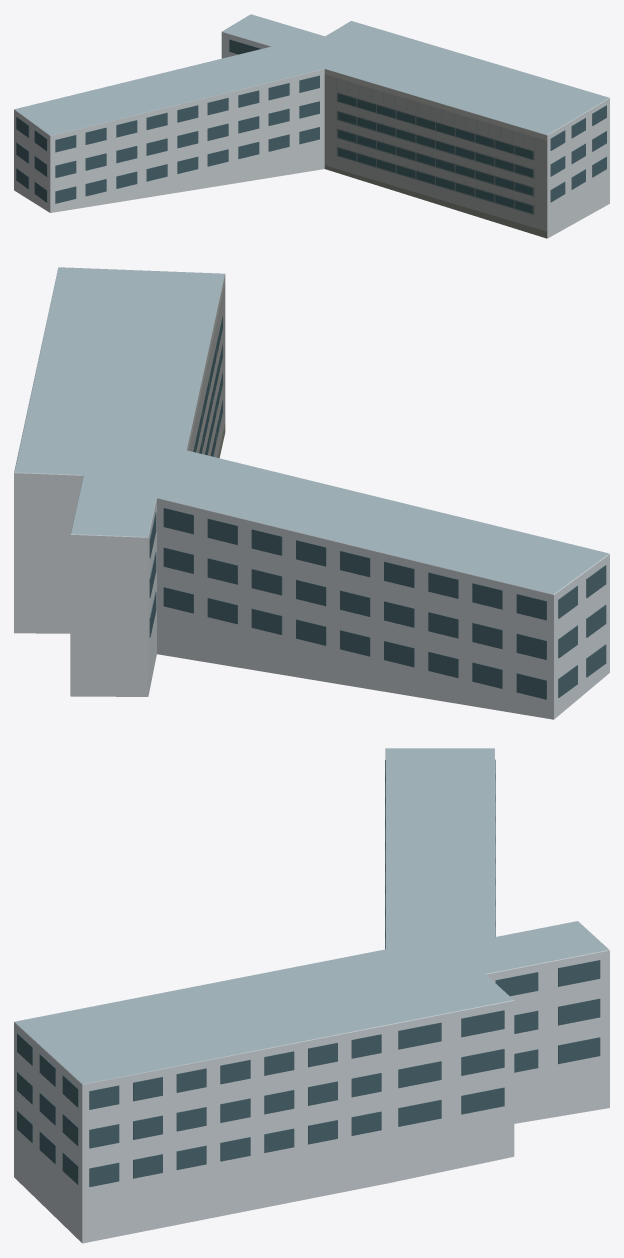
The model's file is fragments.glb.
The picture shows the model from 3 angles, top to bottom: view 1: azimuth 30°, elevation 25°; view 2: azimuth 150°, elevation 25°; view 3: azimuth 270°, elevation 25°; orthographic projection. The views are drawn at different scales.
Visible parts, largest first — view 1: SM_techno_Fragment_035, SM_techno_Fragment_000, SM_techno_Fragment_037, SM_techno_Fragment_012, SM_techno_Fragment_034, SM_techno_Fragment_020, SM_techno_Fragment_008, SM_techno_Fragment_038, SM_techno_Fragment_051, SM_techno_Fragment_016, SM_techno_Fragment_041, SM_techno_Fragment_013 (+29 smaller); view 2: SM_techno_Fragment_012, SM_techno_Fragment_011, SM_techno_Fragment_040, SM_techno_Fragment_003, SM_techno_Fragment_031, SM_techno_Fragment_022, SM_techno_Fragment_049, SM_techno_Fragment_052, SM_techno_Fragment_039, SM_techno_Fragment_038, SM_techno_Fragment_007, SM_techno_Fragment_029 (+23 smaller); view 3: SM_techno_Fragment_019, SM_techno_Fragment_017, SM_techno_Fragment_002, SM_techno_Fragment_048, SM_techno_Fragment_045, SM_techno_Fragment_046, SM_techno_Fragment_025, SM_techno_Fragment_004, SM_techno_Fragment_031, SM_techno_Fragment_028, SM_techno_Fragment_026, SM_techno_Fragment_047 (+24 smaller).
Boxes of the visible parts, box(x1,y1,x2,y2) form: SM_techno_Fragment_035: box(260, 50, 338, 123); SM_techno_Fragment_000: box(83, 104, 167, 175); SM_techno_Fragment_037: box(365, 75, 459, 131); SM_techno_Fragment_012: box(14, 110, 83, 209); SM_techno_Fragment_034: box(160, 85, 233, 154); SM_techno_Fragment_020: box(217, 77, 289, 159); SM_techno_Fragment_008: box(511, 106, 590, 176); SM_techno_Fragment_038: box(14, 103, 106, 159); SM_techno_Fragment_051: box(487, 127, 565, 202); SM_techno_Fragment_016: box(449, 96, 523, 163); SM_techno_Fragment_041: box(317, 79, 380, 152); SM_techno_Fragment_013: box(397, 120, 462, 180); SM_techno_Fragment_012: box(495, 565, 609, 719); SM_techno_Fragment_011: box(292, 511, 385, 627); SM_techno_Fragment_040: box(364, 579, 475, 688); SM_techno_Fragment_003: box(162, 487, 261, 602); SM_techno_Fragment_031: box(70, 493, 166, 591); SM_techno_Fragment_022: box(206, 586, 307, 677); SM_techno_Fragment_049: box(233, 478, 339, 574); SM_techno_Fragment_052: box(412, 547, 516, 649); SM_techno_Fragment_039: box(29, 458, 164, 545); SM_techno_Fragment_038: box(477, 533, 609, 606); SM_techno_Fragment_007: box(70, 556, 139, 667); SM_techno_Fragment_029: box(410, 643, 541, 717); SM_techno_Fragment_019: box(133, 1067, 265, 1183); SM_techno_Fragment_017: box(296, 1029, 415, 1144); SM_techno_Fragment_002: box(414, 1065, 514, 1176); SM_techno_Fragment_048: box(220, 1028, 352, 1117); SM_techno_Fragment_045: box(61, 1064, 150, 1172); SM_techno_Fragment_046: box(62, 1147, 162, 1243); SM_techno_Fragment_025: box(425, 984, 514, 1075); SM_techno_Fragment_004: box(231, 1116, 319, 1212); SM_techno_Fragment_031: box(484, 921, 609, 1014); SM_techno_Fragment_028: box(85, 1026, 205, 1110); SM_techno_Fragment_026: box(319, 1122, 418, 1196); SM_techno_Fragment_047: box(326, 978, 441, 1054).
Size of the model in its own units: 2.2 by 0.485 by 1.65.
5 materials, 1 textured.
